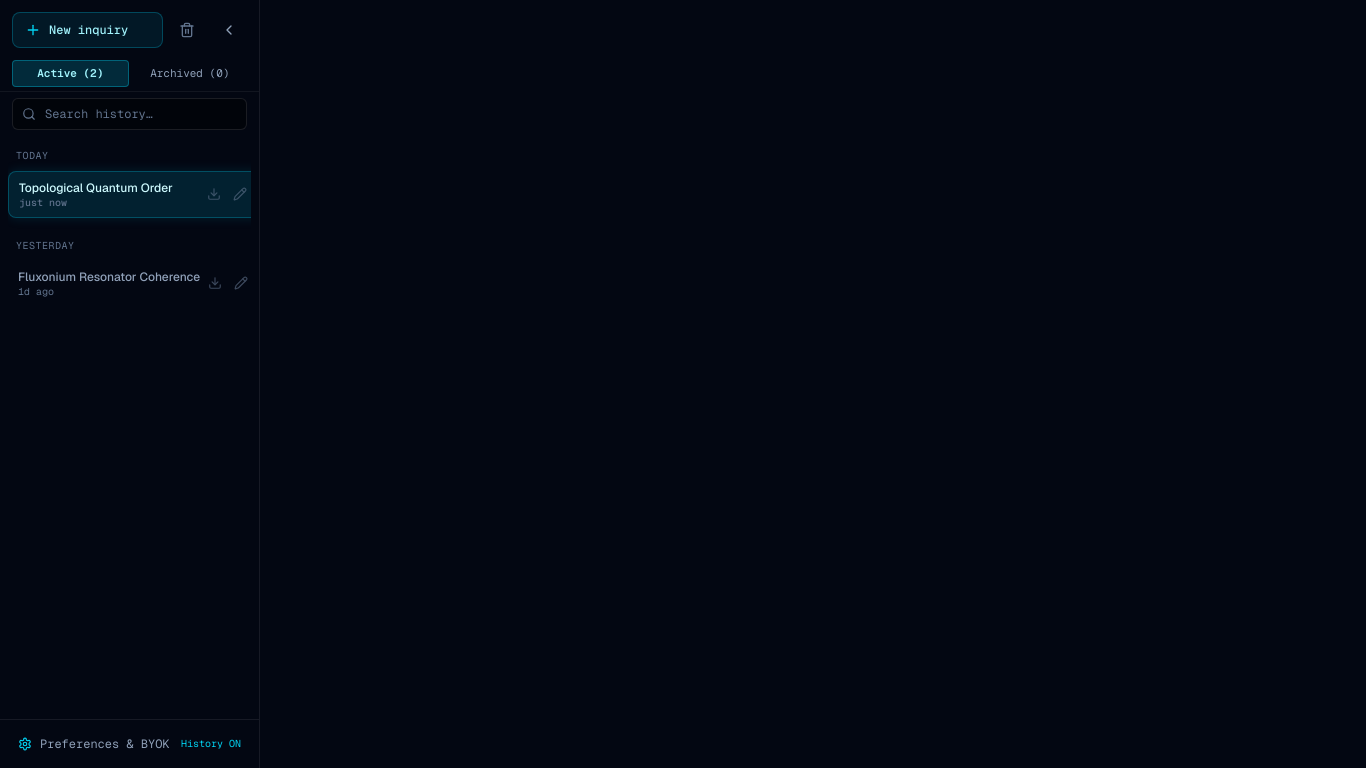
HistorySidebar › opens accessible Radix Dialog for session export with Markdown and JSON choices
The width and height of the screenshot is (1366, 768).
Click the button named "Export Topological Quantum Order": (214,194) [203,183,225,205]
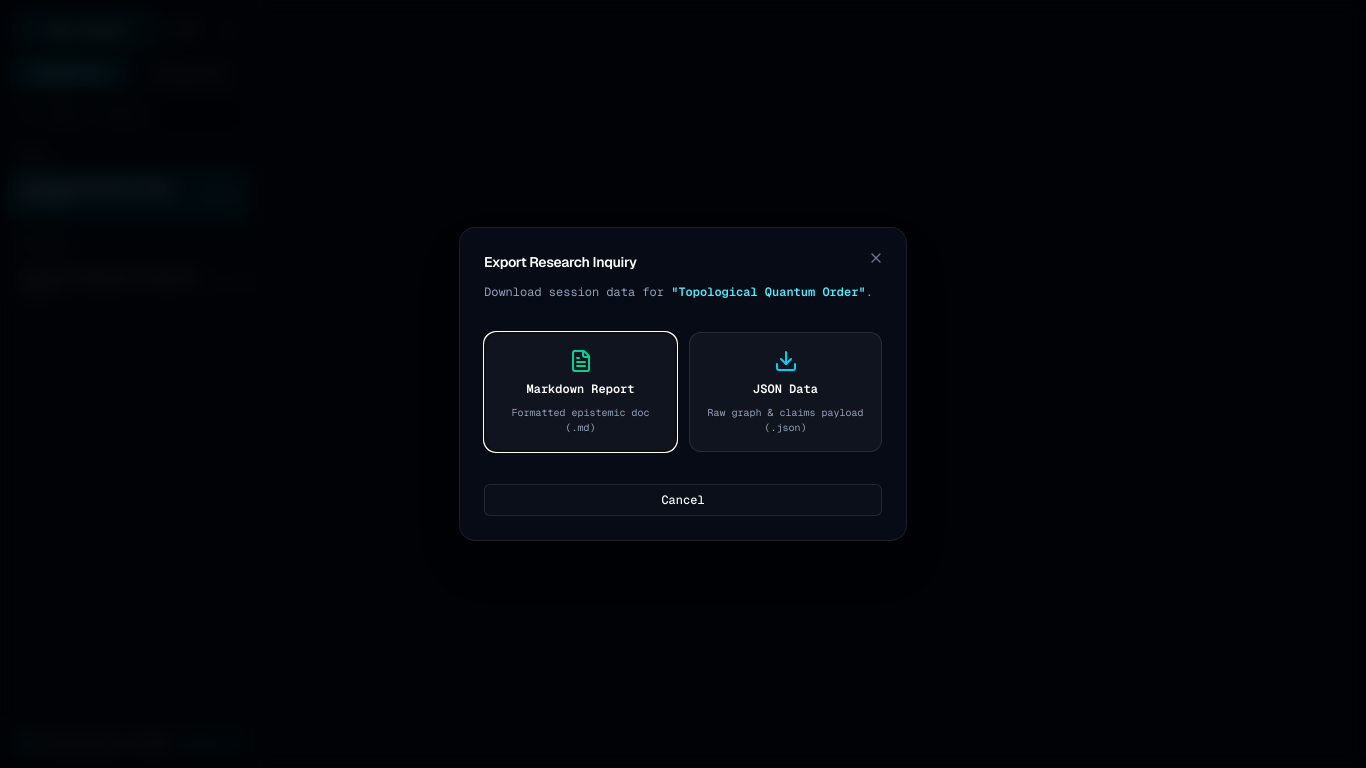
Expected: the heading "Export Research Inquiry" is shown, [484,253,637,271]
Expected: the text "Markdown Report" is shown, [526,381,634,397]
Expected: the text "JSON Data" is shown, [753,381,818,397]
